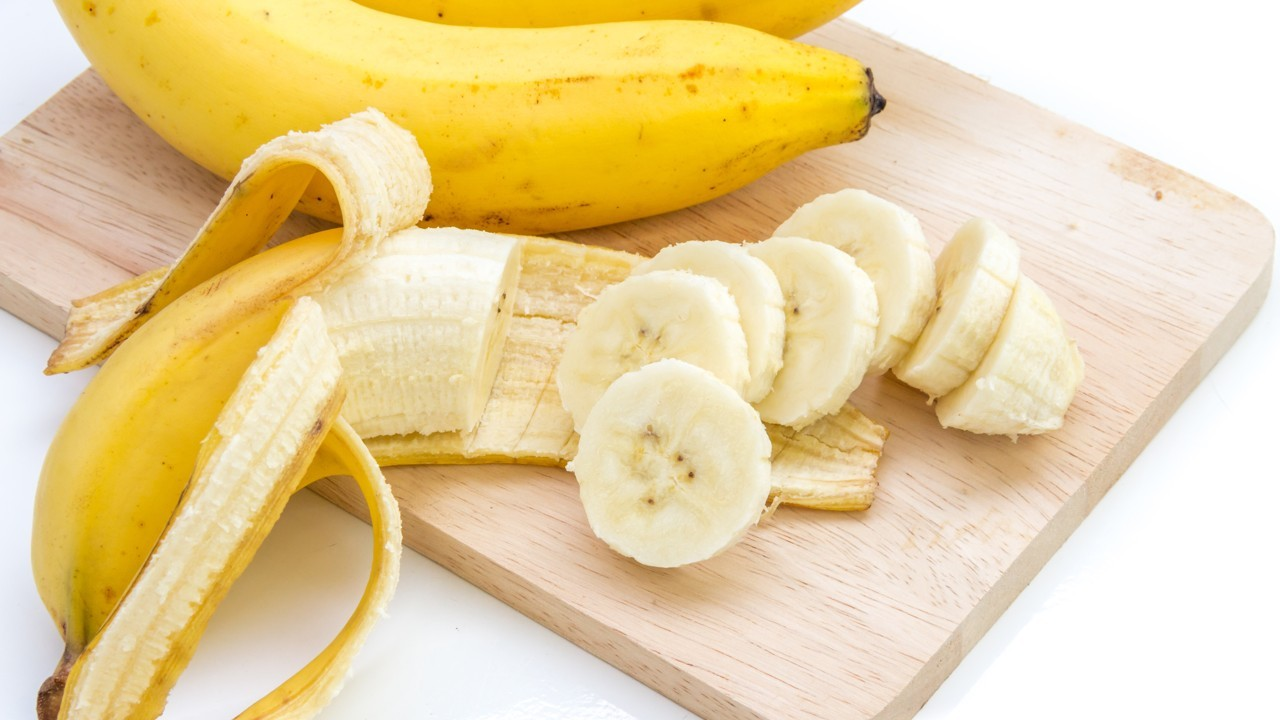banana: (29, 1, 834, 214)
